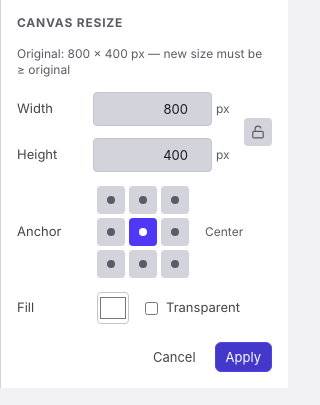
CanvasResizeDialog — ratio lock › links the height to the width once locked
The image size is (320, 405).
Click the button titled "Lock ratio" at coordinates (258, 132), box [244,118,272,146]
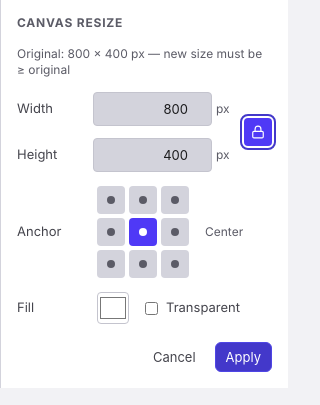
Replace the text in the number field labelled "Width px" with "1600" at coordinates (152, 109), box [93,92,212,126]
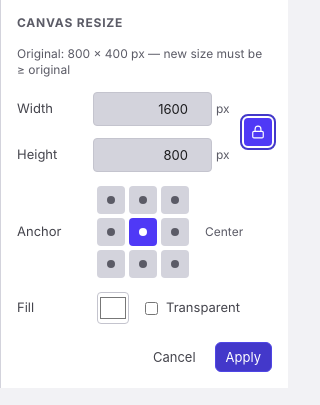
Expected: the number field labelled "Height px" holds "800", [93,138,212,172]
